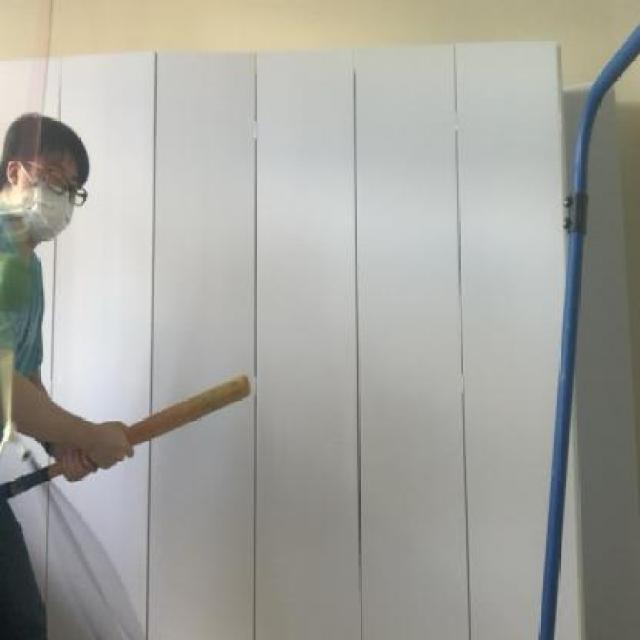baseball: (0, 243, 66, 340)
